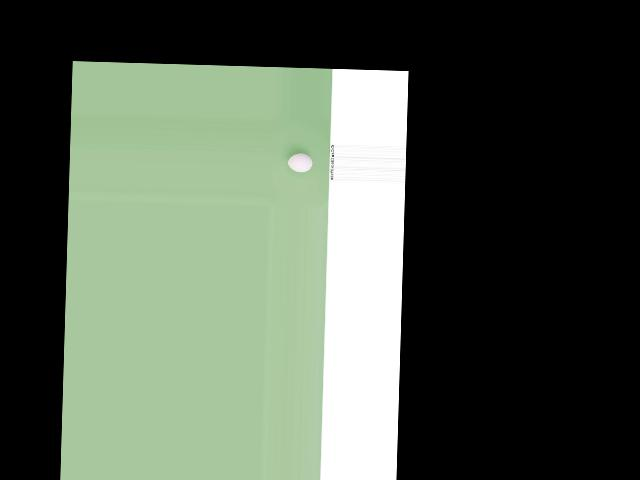egg: (288, 153, 312, 172)
